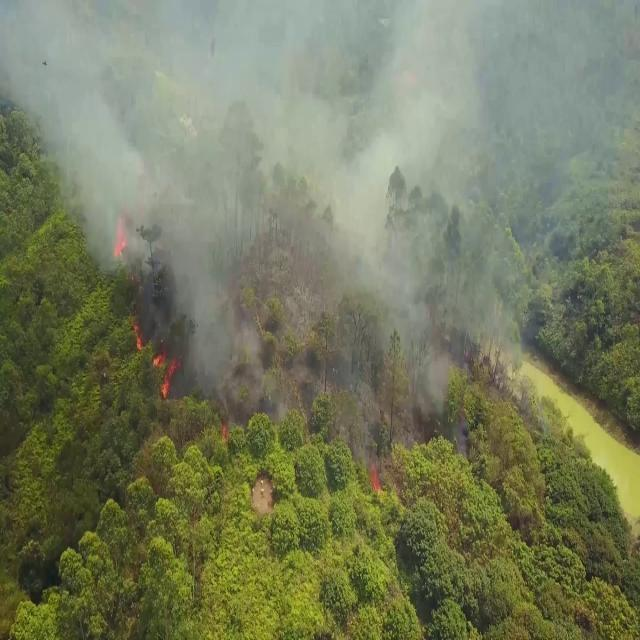Fire: (152, 349, 180, 399), (113, 218, 127, 257), (370, 466, 382, 489), (134, 324, 142, 351), (222, 421, 226, 438)
Smoke: (0, 1, 640, 206), (146, 216, 640, 347), (182, 354, 486, 426), (85, 208, 112, 270)
